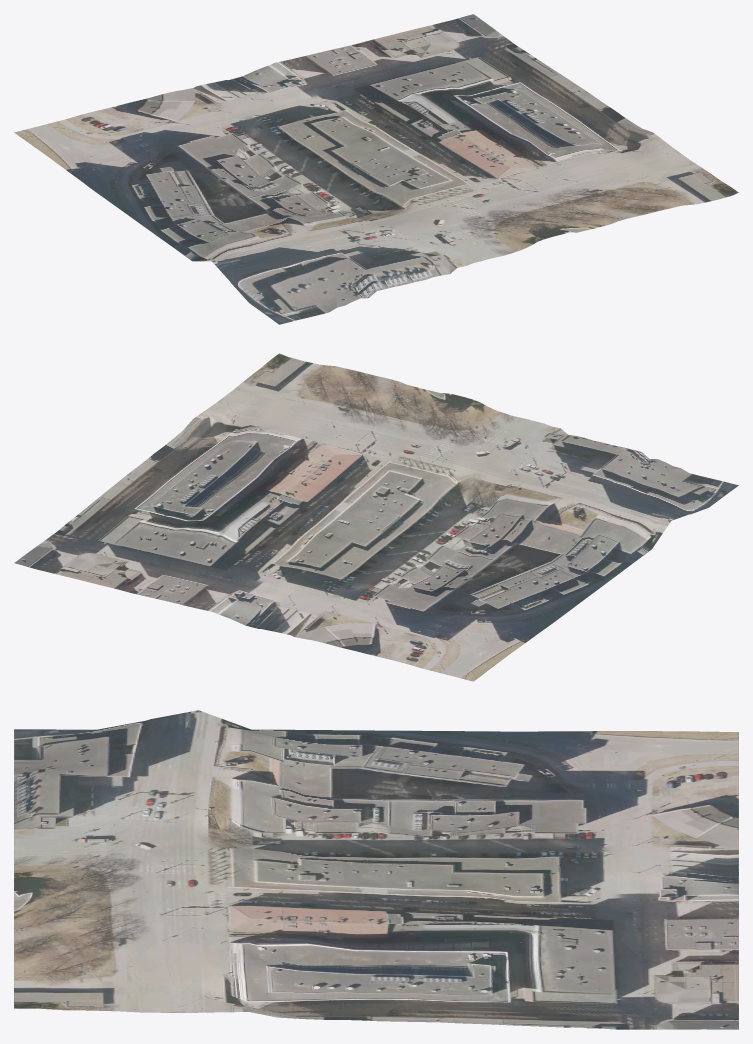
Rendered from CM_Terrain_24488001_6820613.fbx.
3 renders of one model, top to bottom at view 1: azimuth 30°, elevation 25°; view 2: azimuth 150°, elevation 25°; view 3: azimuth 270°, elevation 25°, orthographic. The views are drawn at different scales.
Parts seen in each view (by area): view 1: CM_Terrain_24488001_6820613_LOD0; view 2: CM_Terrain_24488001_6820613_LOD0; view 3: CM_Terrain_24488001_6820613_LOD0.
Boxes of the visible parts, x1=… form: CM_Terrain_24488001_6820613_LOD0: x1=14, y1=14, x2=738, y2=324; CM_Terrain_24488001_6820613_LOD0: x1=14, y1=353, x2=738, y2=681; CM_Terrain_24488001_6820613_LOD0: x1=14, y1=710, x2=738, y2=1029.
Size of what is drawn, in the model's own units: 205 by 11.7 by 205.
